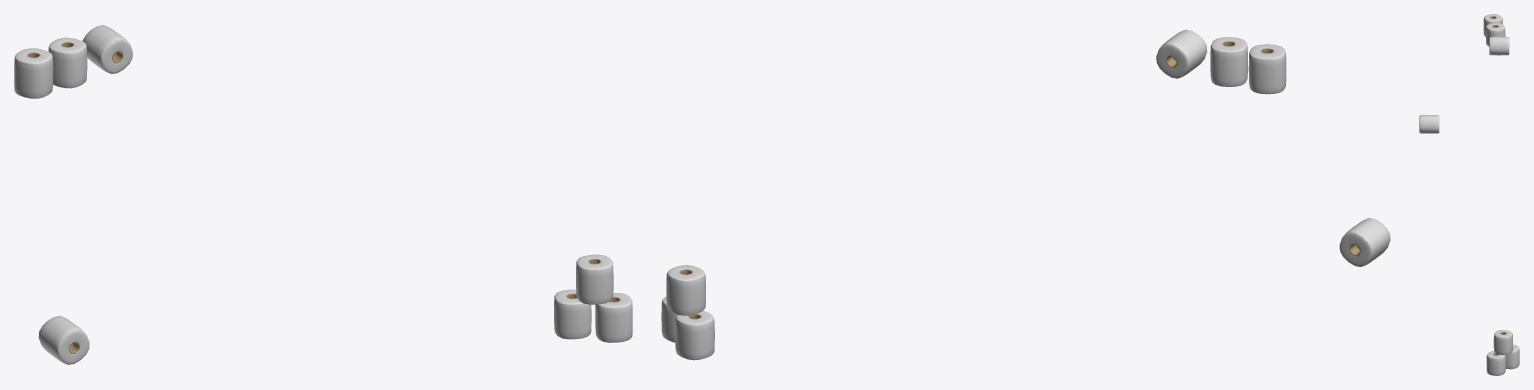
File: Toilet_rolls.fbx
The picture shows the model from 3 angles, left to right: view 1: azimuth 30°, elevation 25°; view 2: azimuth 150°, elevation 25°; view 3: azimuth 270°, elevation 25°; orthographic projection. The views are drawn at different scales.
Parts seen in each view (by area): view 1: Toilet_roll_decor_01, Toilet_roll_decor_01.006, Toilet_roll_decor_01.001, Toilet_roll_decor_01.002, Toilet_roll_decor_01.003, Toilet_roll_decor_01.004, Toilet_roll_decor_01.005; view 2: Toilet_roll_decor_01.006, Toilet_roll_decor_01, Toilet_roll_decor_01.003, Toilet_roll_decor_01.001, Toilet_roll_decor_01.002, Toilet_roll_decor_01.005; view 3: Toilet_roll_decor_01.006, Toilet_roll_decor_01.004, Toilet_roll_decor_01.002, Toilet_roll_decor_01.001, Toilet_roll_decor_01.003, Toilet_roll_decor_01.005, Toilet_roll_decor_01.
Boxes of the visible parts, <box> form: Toilet_roll_decor_01: <box>14,48,53,98</box>; Toilet_roll_decor_01.006: <box>576,254,613,304</box>; Toilet_roll_decor_01.001: <box>38,316,89,364</box>; Toilet_roll_decor_01.002: <box>82,25,132,73</box>; Toilet_roll_decor_01.003: <box>48,37,87,88</box>; Toilet_roll_decor_01.004: <box>595,293,632,342</box>; Toilet_roll_decor_01.005: <box>554,289,591,339</box>; Toilet_roll_decor_01.006: <box>666,265,705,315</box>; Toilet_roll_decor_01: <box>1248,44,1286,94</box>; Toilet_roll_decor_01.003: <box>1210,37,1247,86</box>; Toilet_roll_decor_01.001: <box>1339,218,1390,266</box>; Toilet_roll_decor_01.002: <box>1156,29,1207,78</box>; Toilet_roll_decor_01.005: <box>675,310,714,360</box>; Toilet_roll_decor_01.006: <box>1493,330,1512,354</box>; Toilet_roll_decor_01.004: <box>1486,351,1505,375</box>; Toilet_roll_decor_01.002: <box>1489,36,1509,55</box>; Toilet_roll_decor_01.001: <box>1419,115,1439,133</box>; Toilet_roll_decor_01.003: <box>1485,23,1505,46</box>; Toilet_roll_decor_01.005: <box>1505,344,1519,369</box>; Toilet_roll_decor_01: <box>1483,14,1502,36</box>.
Bounding box in the file's own units: 390 × 244 × 104.
